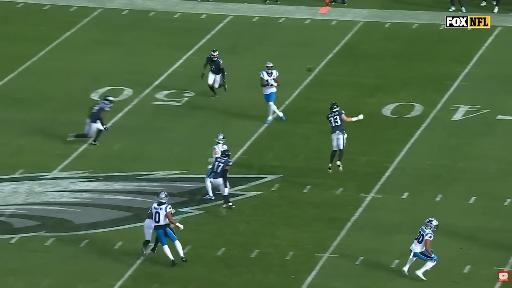Helmet: (425, 218, 438, 230), (103, 95, 115, 105), (158, 191, 168, 202), (216, 134, 225, 143), (330, 103, 339, 111), (221, 150, 230, 158), (211, 50, 218, 59), (266, 62, 273, 70)
Jersey: (411, 226, 433, 252), (151, 203, 171, 229), (89, 101, 110, 122), (327, 110, 345, 134), (212, 157, 232, 178), (207, 56, 222, 74), (260, 70, 278, 84), (212, 144, 227, 159), (147, 206, 152, 219)
Player: (150, 191, 186, 266), (327, 103, 363, 172), (68, 96, 114, 145), (403, 218, 438, 279), (260, 63, 285, 123), (204, 134, 227, 199), (212, 150, 234, 208), (203, 50, 226, 97), (142, 208, 154, 256)
